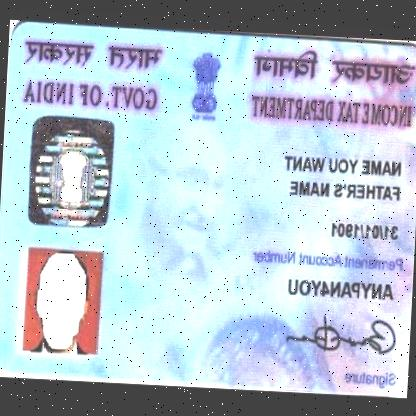pan_card: (0, 19, 415, 405)
